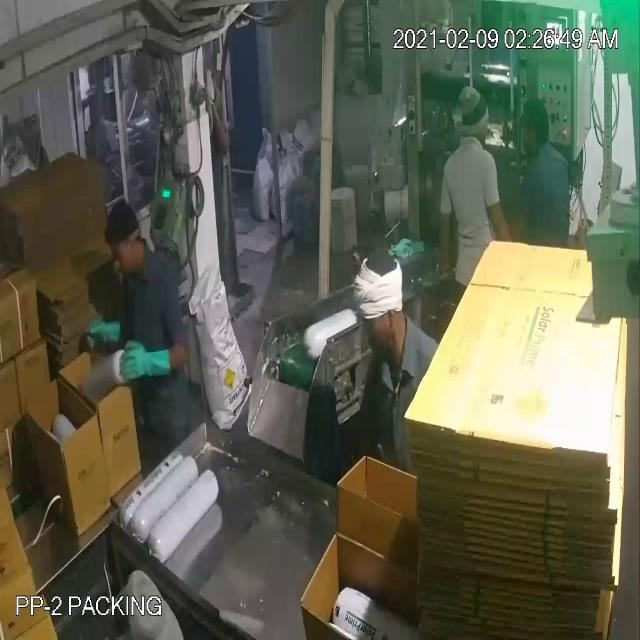gloves: (118, 332, 182, 396), (82, 309, 129, 354)
no-gloves: (432, 202, 458, 284)
